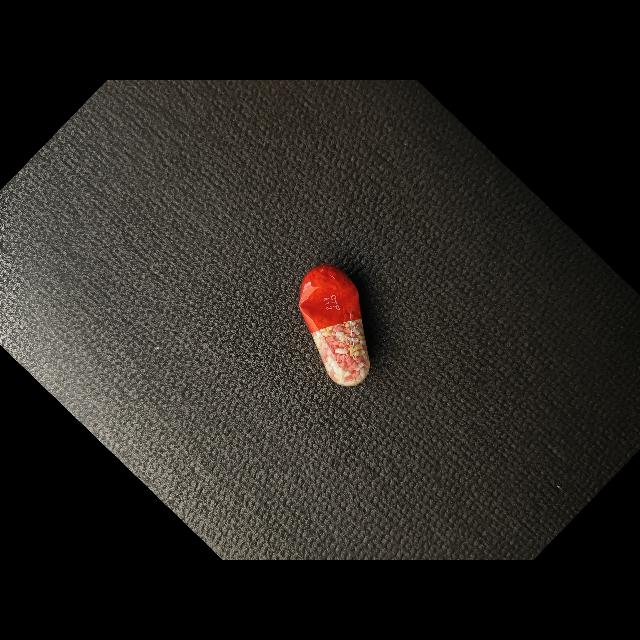Defective Capsule: (299, 265, 370, 387)
